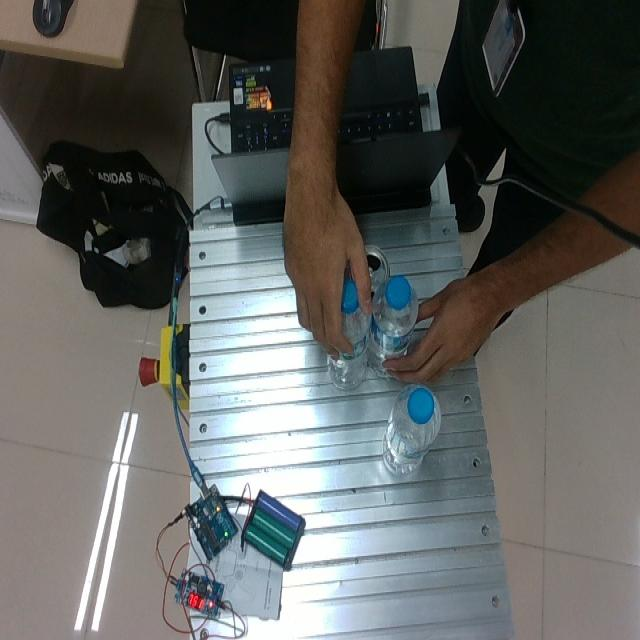lavie: (366, 275, 418, 381), (326, 276, 371, 391), (382, 385, 439, 475)
